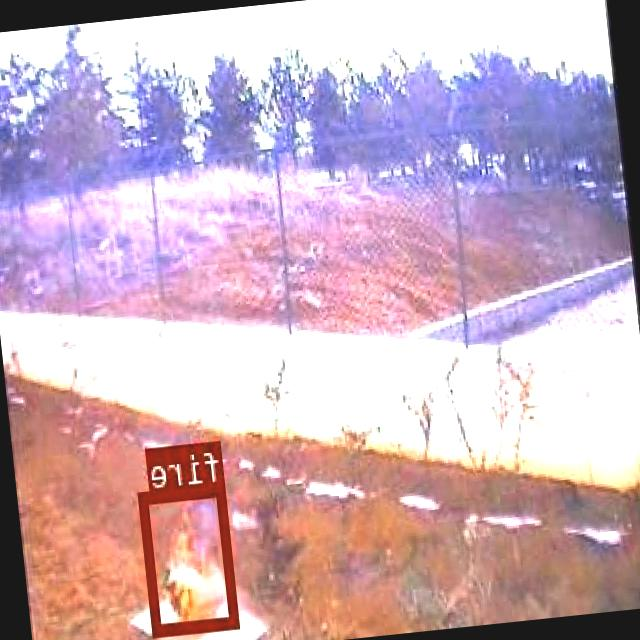fire: (140, 482, 240, 632)
